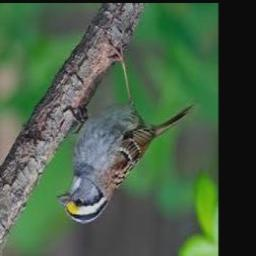Sparrow: (58, 40, 195, 224)
